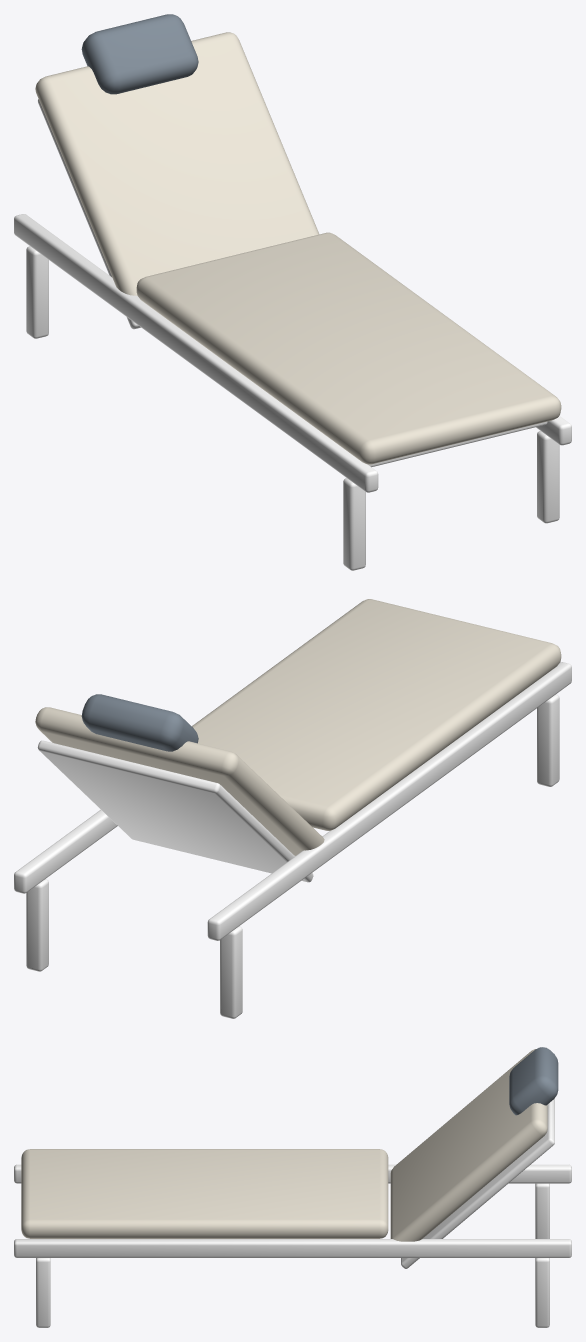
File: espreguicadeira.glb
The picture shows the model from 3 angles, top to bottom: view 1: azimuth 30°, elevation 25°; view 2: azimuth 150°, elevation 25°; view 3: azimuth 270°, elevation 25°; orthographic projection. The views are drawn at different scales.
Visible parts, largest first — view 1: p; view 2: p; view 3: p.
Boxes of the visible parts, x1,y1,x2,y2 form: p: [14, 14, 571, 570]; p: [14, 599, 571, 1018]; p: [14, 1047, 571, 1327].
Bounding box in the file's own units: 0.65 × 0.8514 × 1.9.
